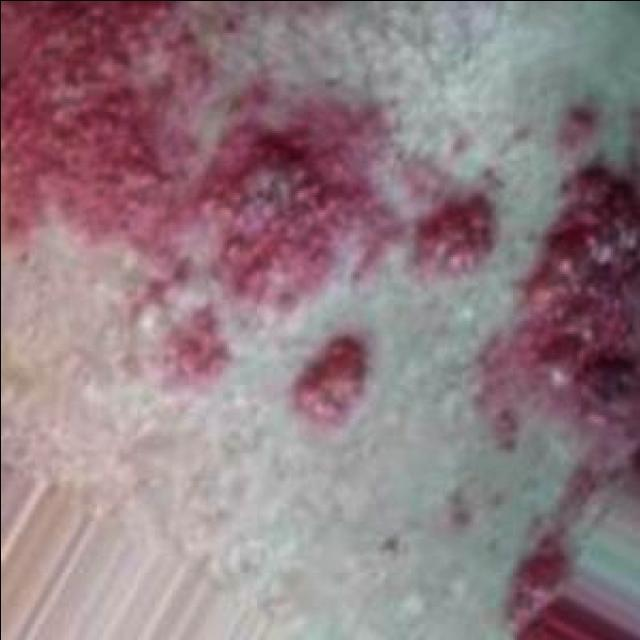Shingles: (0, 0, 494, 385), (514, 161, 640, 433), (295, 338, 369, 424)
